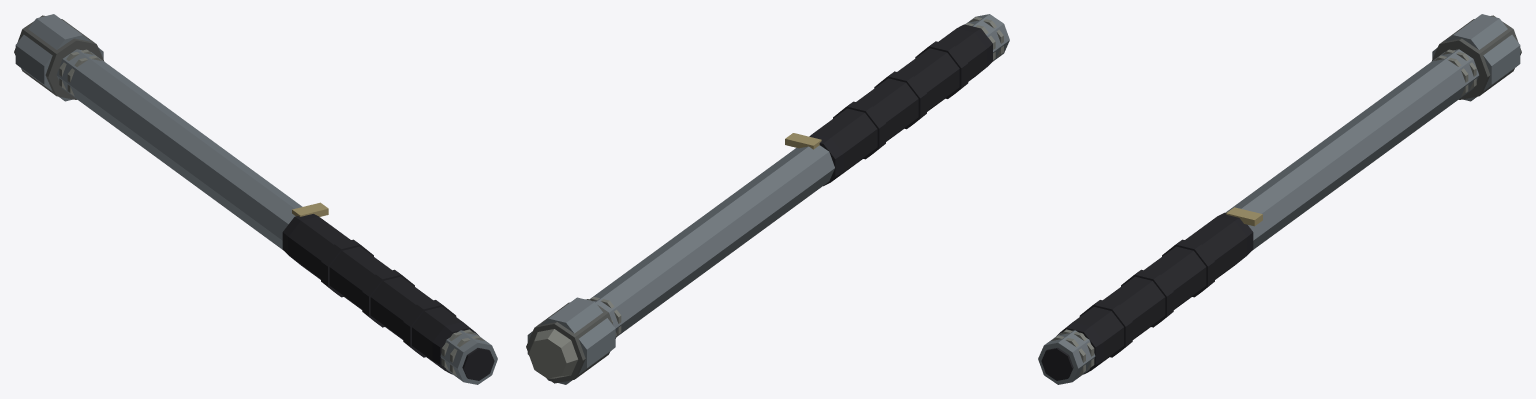
The model's file is pipe.glb.
The picture shows the model from 3 angles, left to right: view 1: azimuth 30°, elevation 25°; view 2: azimuth 150°, elevation 25°; view 3: azimuth 330°, elevation 25°; orthographic projection.
Parts seen in each view (by area): view 1: pipe; view 2: pipe; view 3: pipe.
Boxes of the visible parts, bbox=[...] form: pipe: bbox=[14, 14, 497, 384]; pipe: bbox=[526, 14, 1009, 384]; pipe: bbox=[1038, 14, 1521, 384].
Size of the model in its own units: 0.05 by 0.05 by 0.647.
2 materials, 2 textured.
